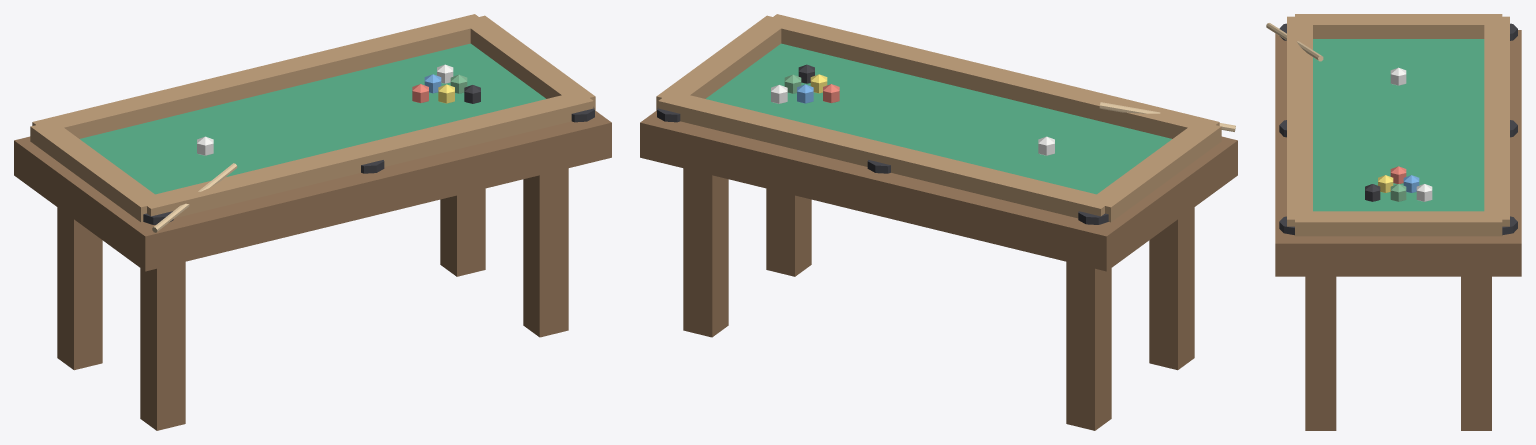
Rendered from pool_table.glb.
The picture shows the model from 3 angles, left to right: view 1: azimuth 30°, elevation 25°; view 2: azimuth 150°, elevation 25°; view 3: azimuth 270°, elevation 25°; orthographic projection. The views are drawn at different scales.
Visible parts, largest first — view 1: pool_table; view 2: pool_table; view 3: pool_table.
Boxes of the visible parts, box(x1,y1,x2,y2) form: pool_table: box(14, 14, 611, 430); pool_table: box(640, 14, 1237, 430); pool_table: box(1266, 14, 1521, 430).
Bounding box in the file's own units: 1.95 × 0.9611 × 0.9855.
